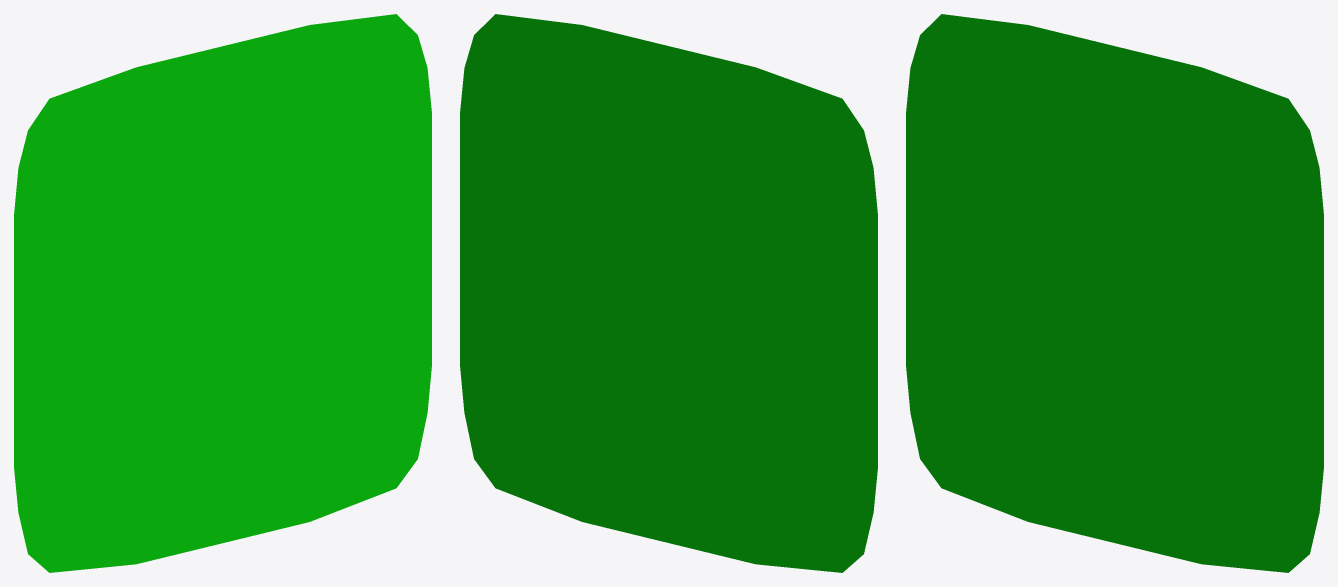
3 views of the same model, side by side, from view 1: azimuth 30°, elevation 25°; view 2: azimuth 150°, elevation 25°; view 3: azimuth 330°, elevation 25° (orthographic).
Parts seen in each view (by area): view 1: Shield_Sq_01; view 2: Shield_Sq_01; view 3: Shield_Sq_01.
Part boxes in pixels (x1,y1,x2,y2): Shield_Sq_01: (14, 14, 431, 572); Shield_Sq_01: (460, 14, 877, 572); Shield_Sq_01: (906, 14, 1323, 572).
Bounding box in the file's own units: 1.06 × 2.05e-07 × 1.2.
